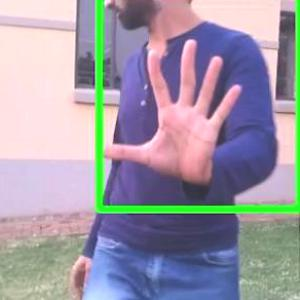follow_hand: (102, 30, 246, 188)
